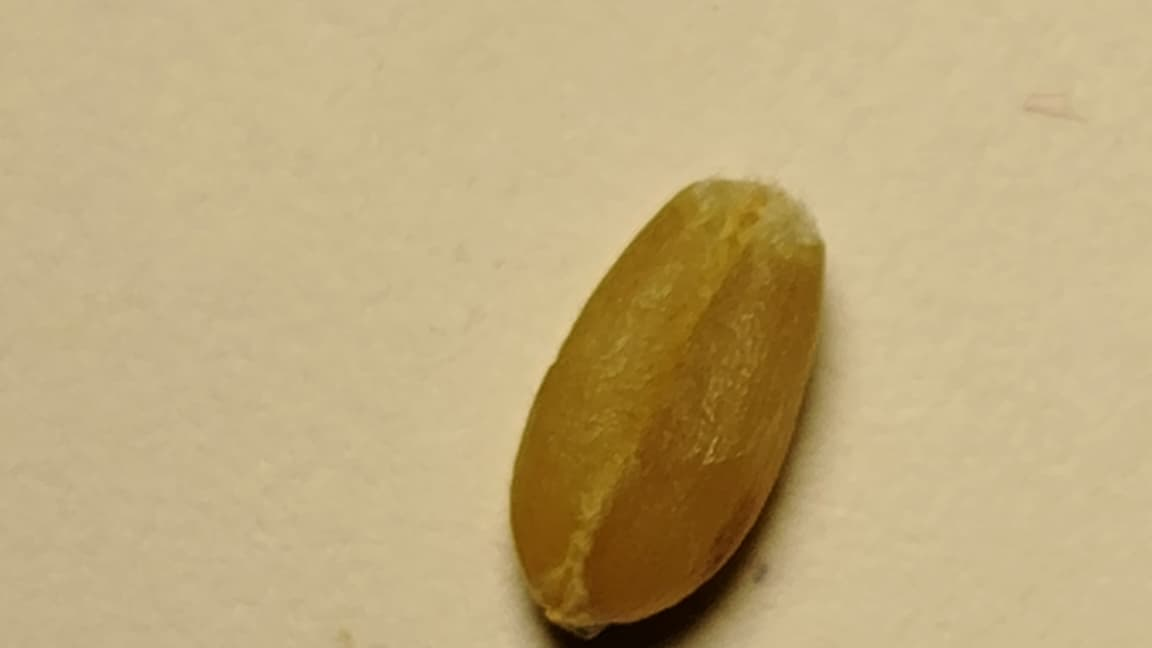healthy: (511, 181, 823, 630)
